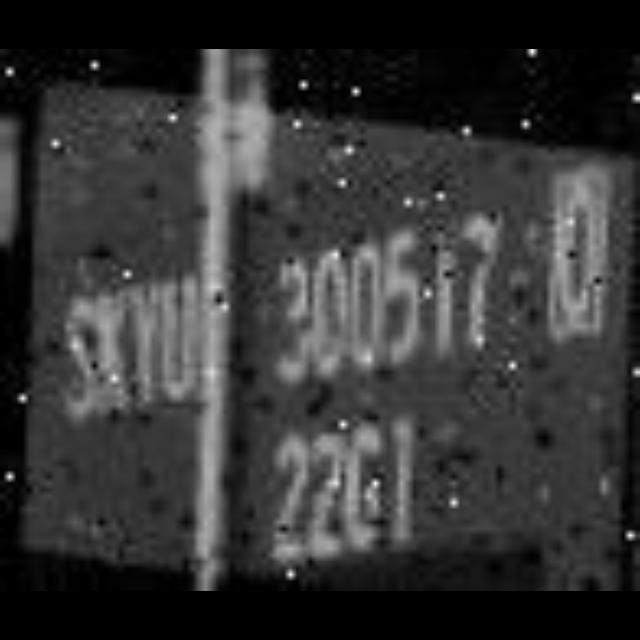0: (548, 176, 608, 330), (350, 239, 384, 379), (312, 252, 350, 372)
1: (385, 407, 421, 563), (430, 216, 458, 364)
2: (261, 434, 315, 566), (308, 422, 347, 560)
3: (273, 252, 313, 382)
5: (385, 227, 419, 363)
6: (344, 412, 382, 558)
7: (461, 203, 504, 353)
k: (98, 283, 128, 417)
s: (56, 293, 100, 421)
u: (164, 273, 203, 407)
y: (129, 277, 163, 413)
